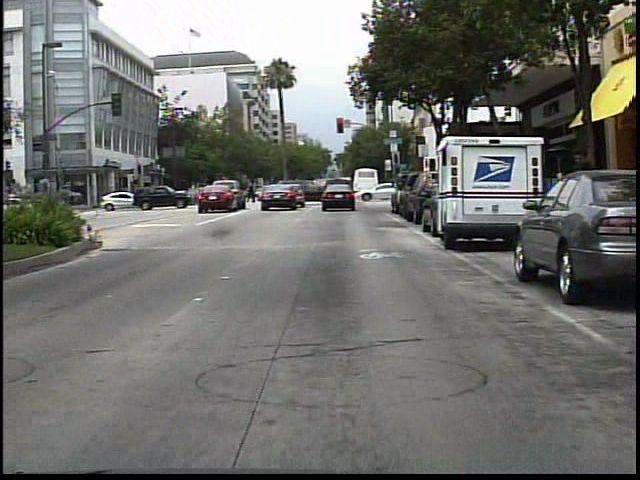person: (565, 145, 603, 259), (246, 179, 261, 206)
